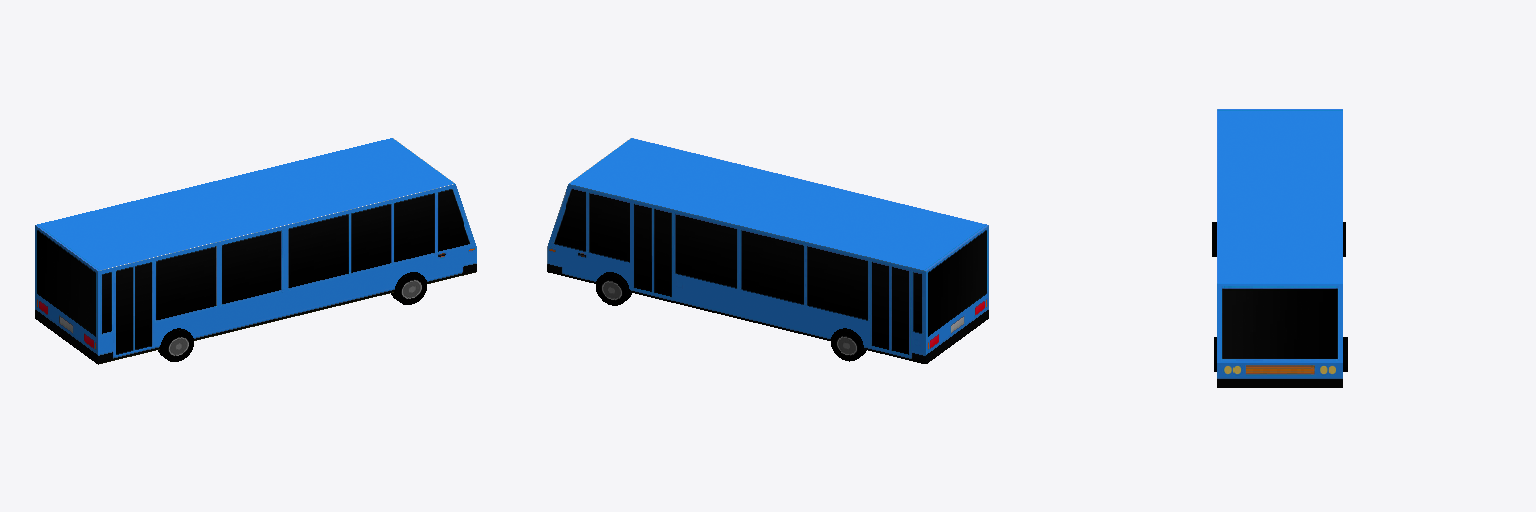
The picture shows the model from 3 angles: view 1: azimuth 30°, elevation 25°; view 2: azimuth 150°, elevation 25°; view 3: azimuth 270°, elevation 25°; orthographic projection.
Parts seen in each view (by area): view 1: Car_12; view 2: Car_12; view 3: Car_12.
Boxes of the visible parts, <box> form: Car_12: <box>35,138,476,364</box>; Car_12: <box>547,138,988,363</box>; Car_12: <box>1212,109,1347,387</box>.
Bounding box in the file's own units: 13.06 × 3.57 × 4.08.
1 materials, 1 textured.